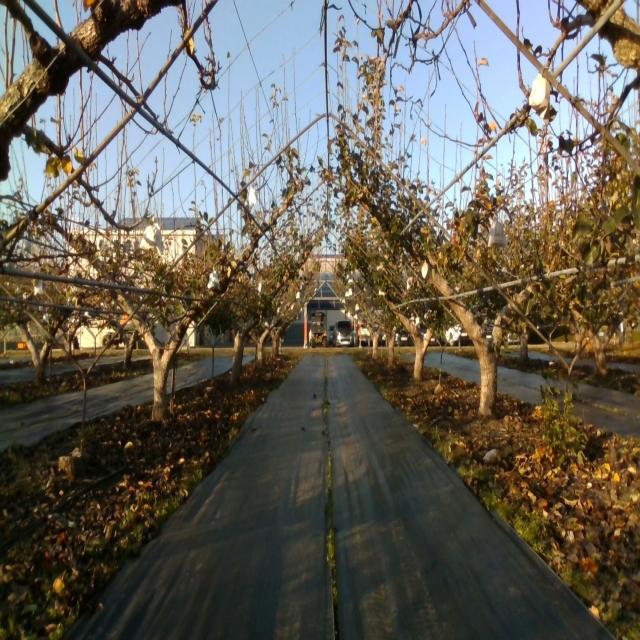pearbags: (529, 71, 551, 128), (139, 218, 162, 256), (487, 220, 508, 248), (207, 265, 221, 292)
